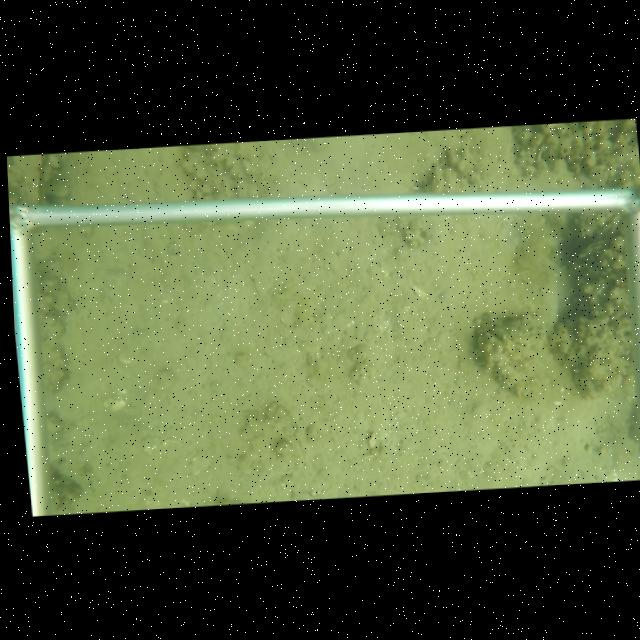Oyster-Closed: (572, 239, 616, 261), (596, 214, 617, 237)
Oyster-Indeterminate: (474, 311, 555, 403), (15, 156, 41, 203)
Oyster-Open: (38, 337, 72, 396), (532, 135, 547, 167)
